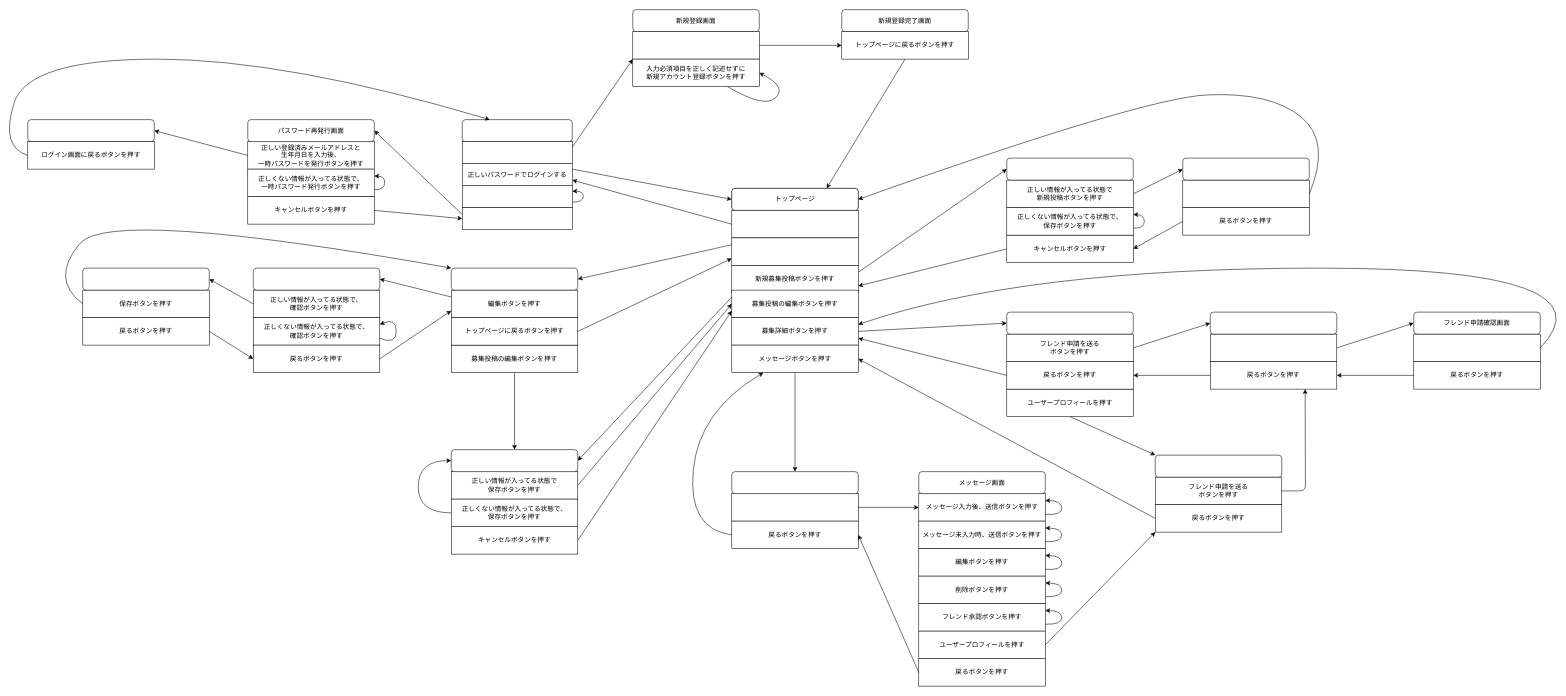
Some shapes in this 1566 by 696 pixel diagram are drawn without their labels. Each missing label, with the centre of its shape:
チャットルームをクリックする: (794,507)
チャットルーム一覧画面: (794,482)
パスワードを忘れた場合 ボタンを押す: (517,218)
パスワード再発行完了画面: (90,130)
フレンド申請画面: (1273,323)
マイページ: (514,279)
マイページページボタンを押す: (794,251)
マイページ編集画面: (316,279)
マイページ編集確認画面: (145,279)
メッセージ記入後に 送信確認ボタンを押す: (1273,348)
ユーザープロフィール画面: (1218,466)
ログアウトボタンを押す: (794,224)
ログイン画面: (517,130)
入力必須項目を正しく記述後に 新規アカウント登録ボタンを押す: (695,45)
募集投稿の編集稿画面: (514,460)
募集詳細画面: (1069,323)
投稿ボタンを押す: (1245,194)
新しいアカウントを作成 のボタンを押す: (517,152)
新規募集投稿画面: (1069,169)
新規募集投稿確認画面: (1245,169)
誤ったパスワードでログインする: (517,196)
送信ボタンを押す: (1476,348)
